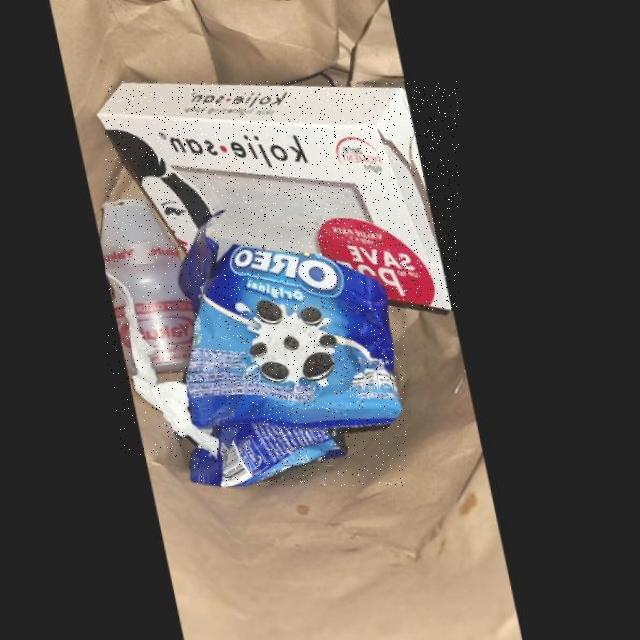paper: (106, 81, 459, 310), (113, 268, 224, 457)
plastic: (107, 196, 201, 372)
wrapper: (192, 242, 406, 485)
